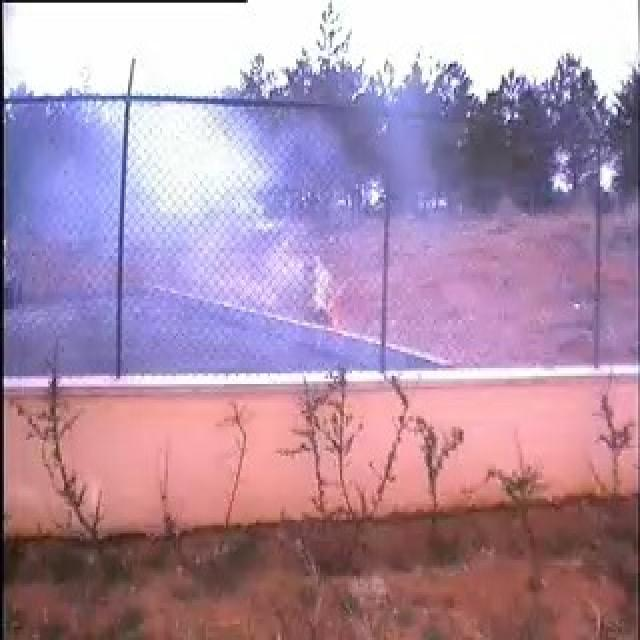smoke: (67, 100, 414, 365)
